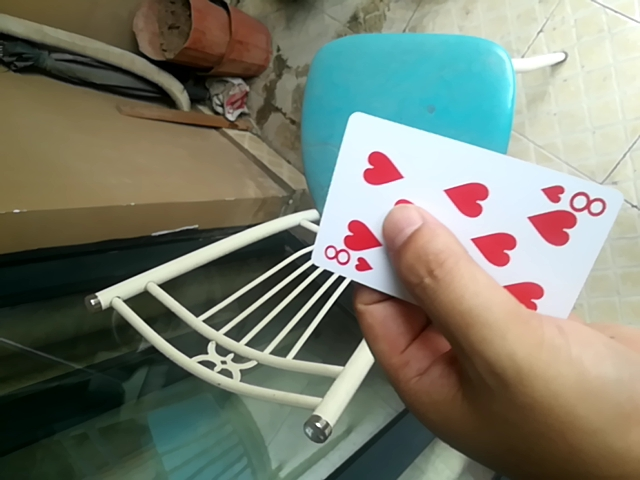hx 8: (305, 118, 624, 323)
